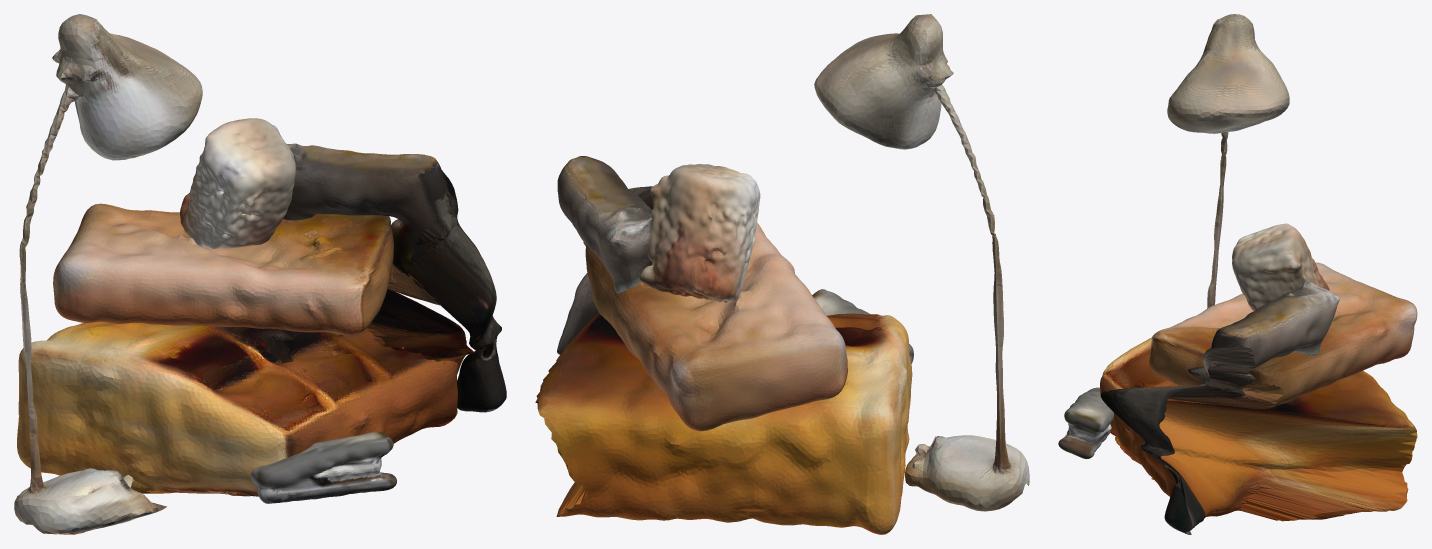
File: gen3dsr_no_bg.glb
The picture shows the model from 3 angles, left to right: view 1: azimuth 30°, elevation 25°; view 2: azimuth 150°, elevation 25°; view 3: azimuth 270°, elevation 25°; orthographic projection. The views are drawn at different scales.
Visible parts, largest first — view 1: 4.obj, 1.obj, 2.obj, 5.obj, 0.obj, 3.obj; view 2: 4.obj, 1.obj, 2.obj, 0.obj, 5.obj, 3.obj; view 3: 4.obj, 1.obj, 5.obj, 2.obj, 0.obj, 3.obj.
Boxes of the visible parts, x1,y1,x2,y2 form: 4.obj: (17, 288, 473, 496); 1.obj: (53, 203, 440, 335); 2.obj: (14, 14, 202, 534); 5.obj: (283, 143, 506, 412); 0.obj: (180, 118, 295, 249); 3.obj: (250, 431, 396, 503); 4.obj: (535, 312, 912, 534); 1.obj: (585, 222, 847, 431); 2.obj: (814, 14, 1029, 511); 0.obj: (639, 164, 760, 302); 5.obj: (557, 156, 653, 354); 3.obj: (812, 289, 913, 363); 4.obj: (1100, 316, 1417, 521); 1.obj: (1149, 262, 1417, 408); 5.obj: (1100, 281, 1339, 534); 2.obj: (1167, 14, 1289, 308); 0.obj: (1232, 223, 1329, 311); 3.obj: (1058, 387, 1113, 459).
Size of the model in its own units: 0.73 by 0.7341 by 0.5988.
Materials: 6 (6 with a texture image).
